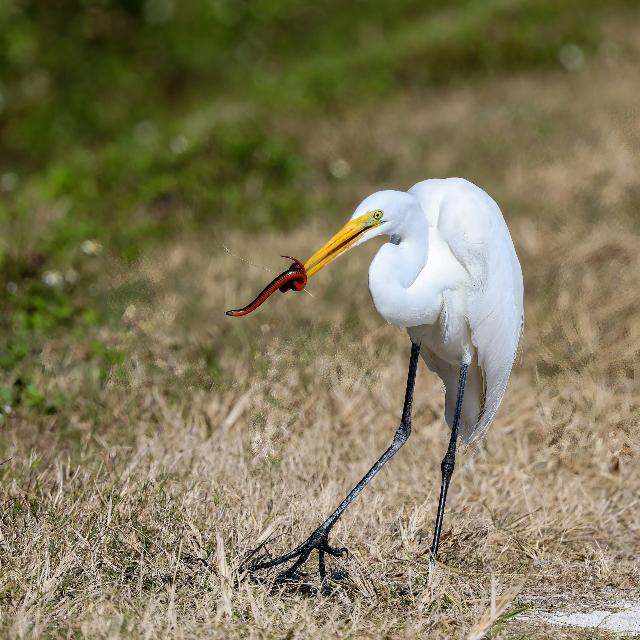egret: (213, 164, 514, 604)
